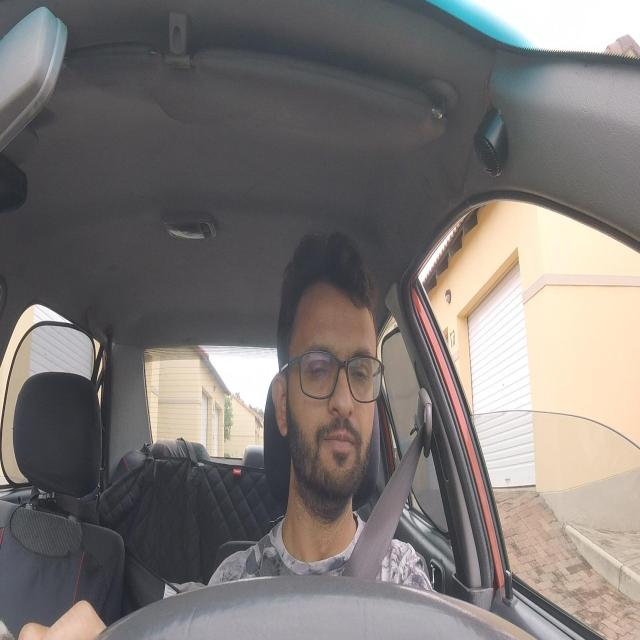open: (307, 344, 333, 384), (346, 351, 374, 386)
